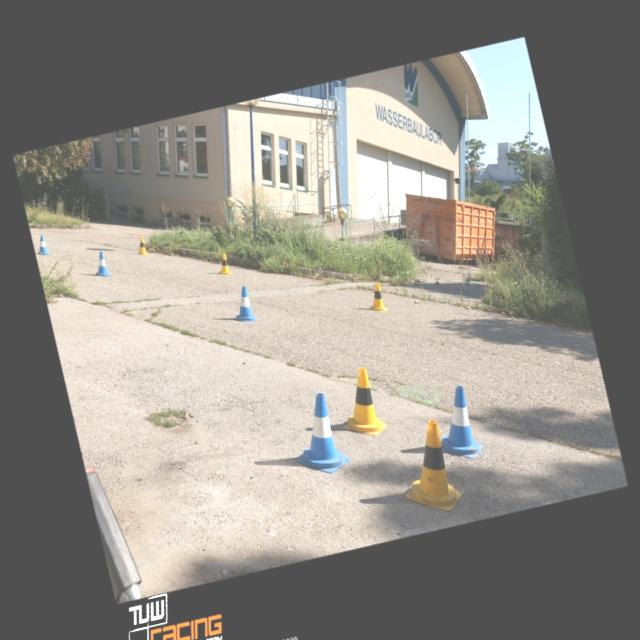blue_cone: (282, 388, 350, 479), (428, 382, 485, 464), (228, 284, 257, 324), (90, 250, 110, 278), (34, 234, 50, 256)
yellow_cone: (390, 416, 465, 520), (332, 364, 388, 442), (364, 281, 388, 314), (215, 252, 232, 277), (133, 234, 148, 256)
